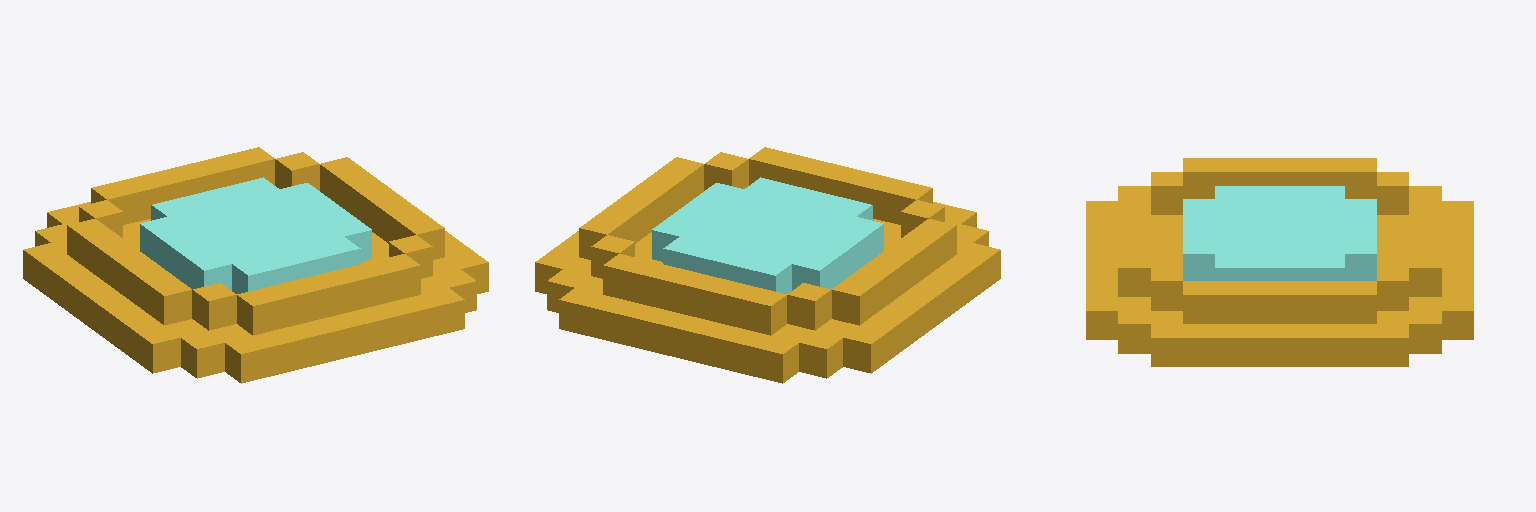
3 views of the same model, side by side, from view 1: azimuth 30°, elevation 25°; view 2: azimuth 150°, elevation 25°; view 3: azimuth 270°, elevation 25° (orthographic).
Parts seen in each view (by area): view 1: ButtonFrame, Button; view 2: ButtonFrame, Button; view 3: ButtonFrame, Button.
Part boxes in pixels (left/top/right/bottom): ButtonFrame: left=23, top=147, right=488, bottom=383; Button: left=140, top=177, right=371, bottom=293; ButtonFrame: left=535, top=147, right=1000, bottom=383; Button: left=652, top=177, right=883, bottom=293; ButtonFrame: left=1086, top=158, right=1473, bottom=366; Button: left=1183, top=186, right=1376, bottom=280.
Size of the model in its own units: 0.6 by 0.1 by 0.6.
1 materials, 1 textured.